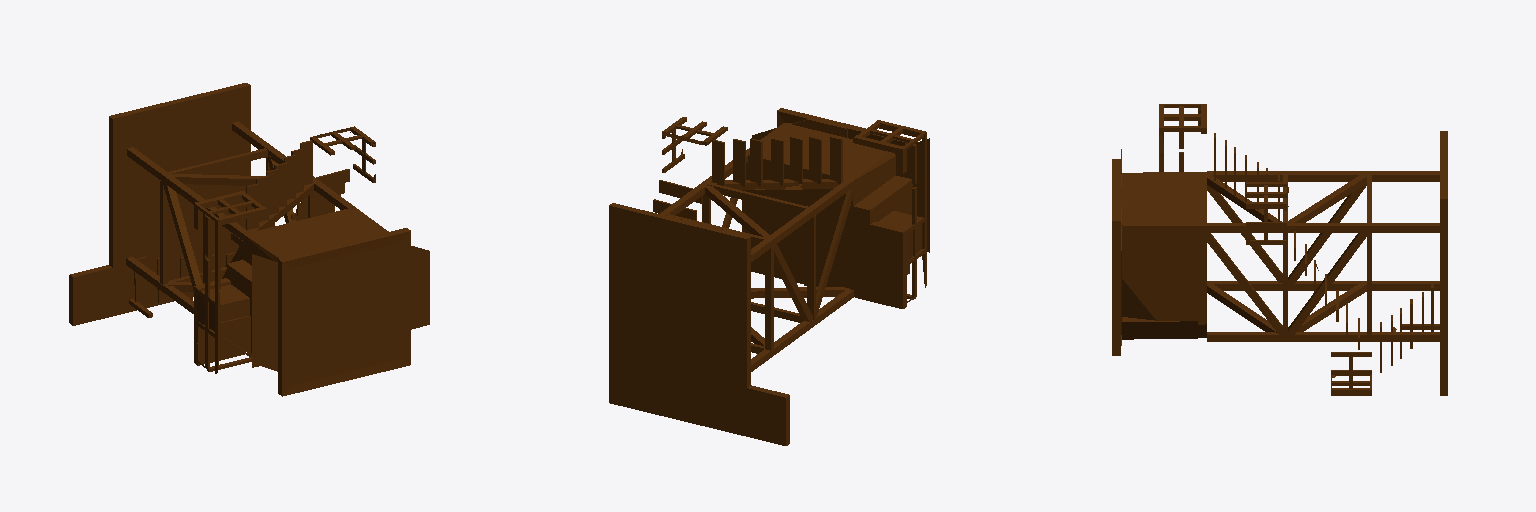
File: tinker.obj
3 views of the same model, side by side, from view 1: azimuth 30°, elevation 25°; view 2: azimuth 150°, elevation 25°; view 3: azimuth 270°, elevation 25° (orthographic).
Parts seen in each view (by area): view 1: obj_0; view 2: obj_0; view 3: obj_0.
Part boxes in pixels (x1,y1,x2,y2): obj_0: (69,83,429,396); obj_0: (609,108,929,445); obj_0: (1112,104,1447,395).
Bounding box in the file's own units: 6.37 × 6.17 × 9.06.